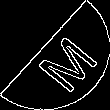M_NW: (18, 21, 92, 89)
